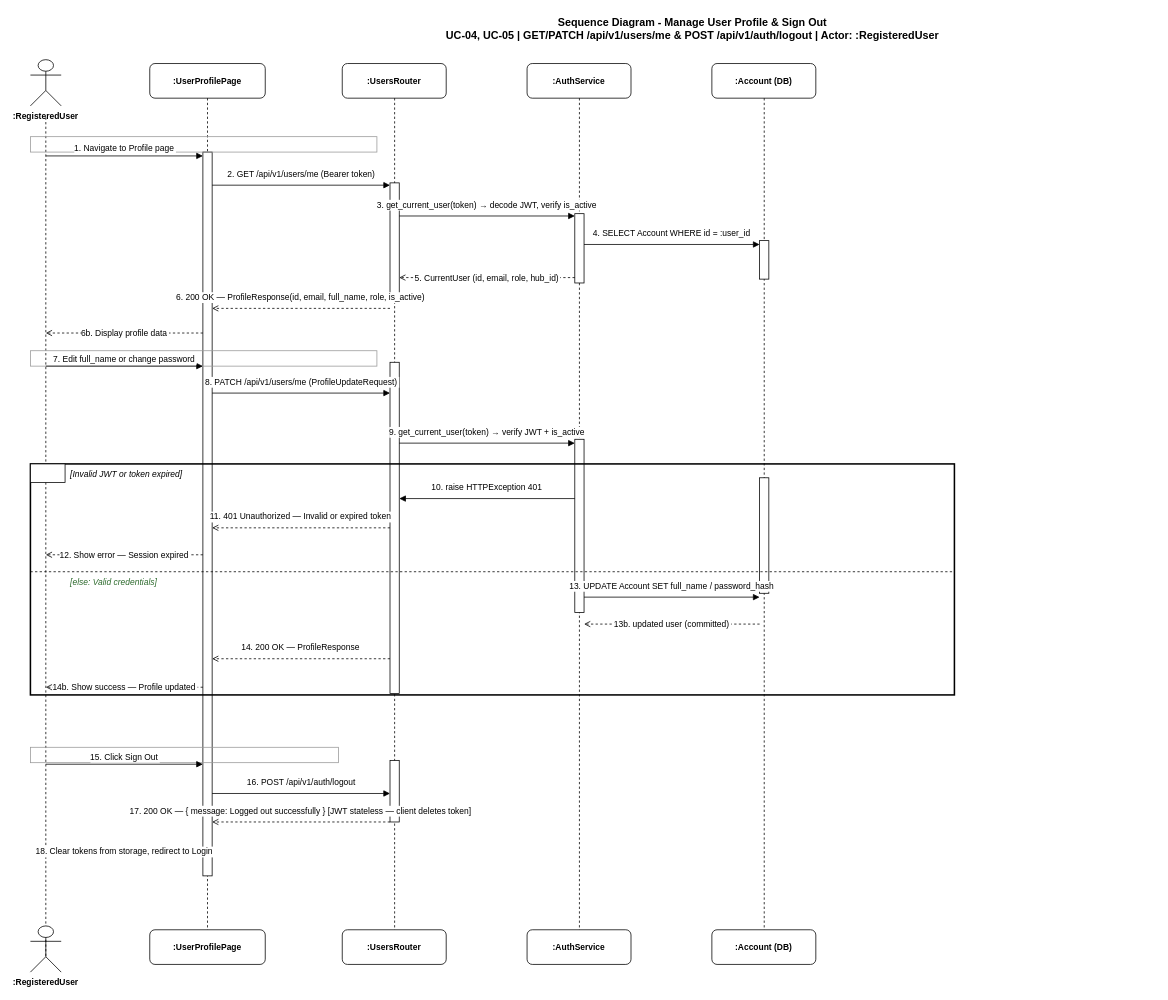
Some shapes in this 1168 by 1000 pixel diagram are drawn without their labels. Here are the shapes that lost their labels. From the top down, the box of each, then its label:
(30, 136, 377, 152): Phase 1: View Profile (UC-04) — GET /api/v1/users/me
(30, 350, 377, 366): Phase 2: Update Profile (UC-04) — PATCH /api/v1/users/me
(30, 463, 65, 482): alt
(30, 747, 338, 763): Phase 3: Sign Out (UC-05) — POST /api/v1/auth/logout
